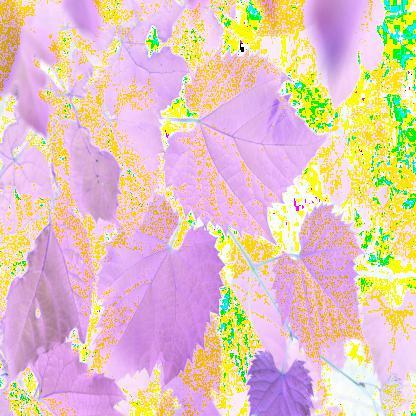grape leaf black rot: (162, 46, 322, 228), (80, 192, 220, 396), (268, 202, 367, 356), (119, 81, 160, 250)
